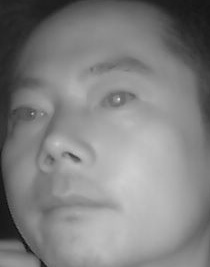eye: (8, 100, 51, 128), (98, 86, 139, 115)
mouth: (37, 184, 115, 231)
